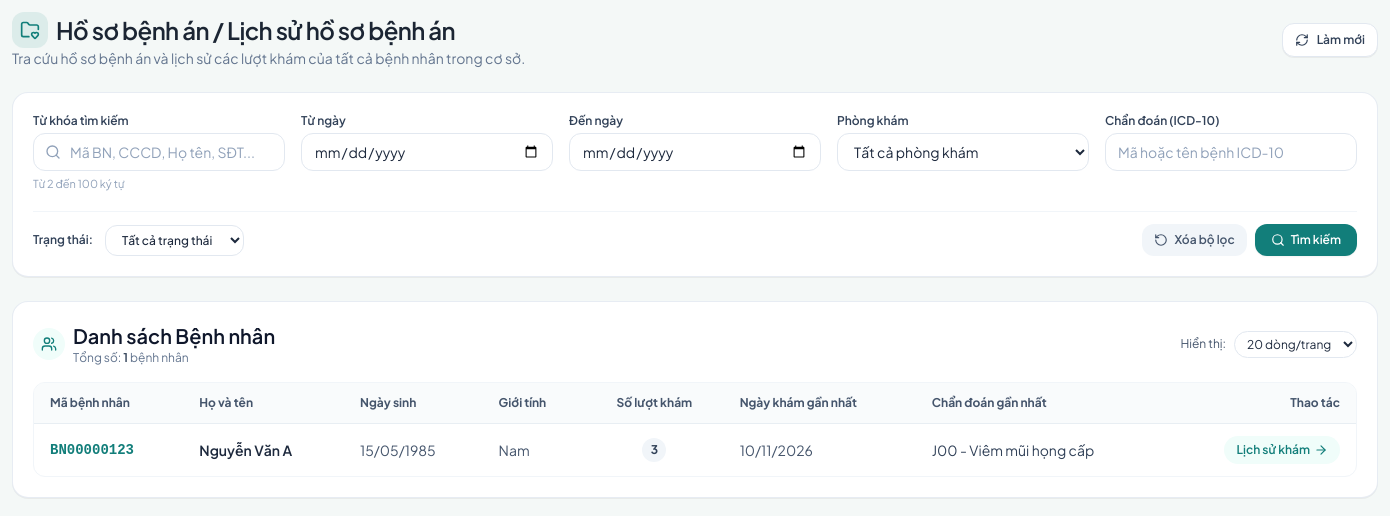
Test case: MedicalRecordsPage (UC-51) › opens level 2 for the selected patient with labels and visits without a record
Click the text "BN00000123".
click(109, 450)  # box [34,424,183,476]
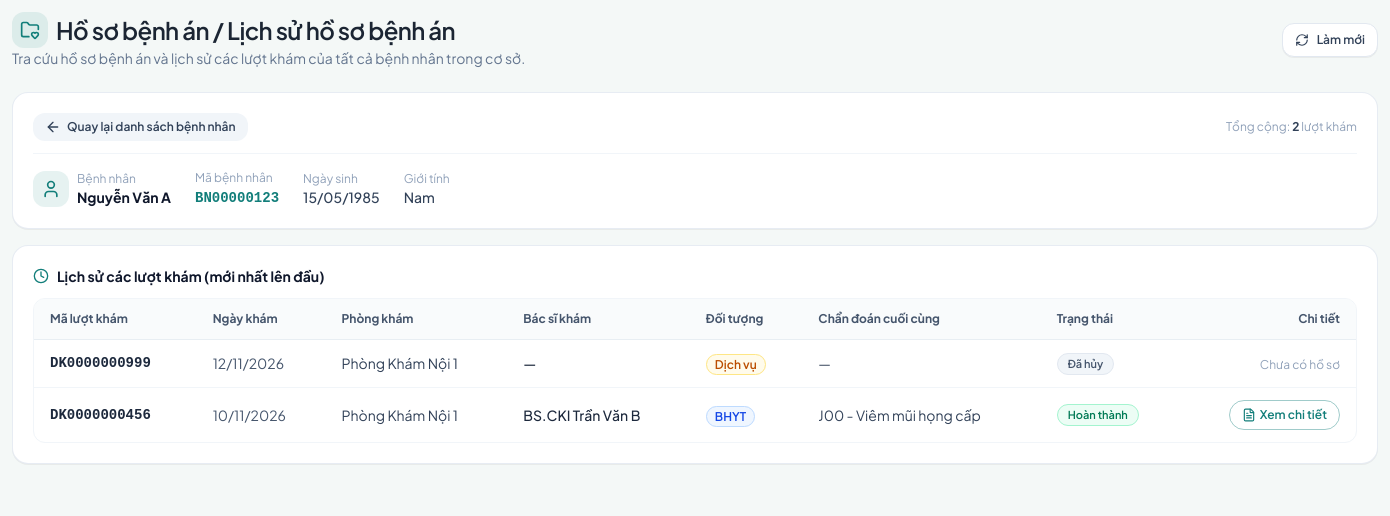
Expected: the text "DK0000000456" is shown, [34,387,197,442]
Expected: the text "Quay lại danh sách bệnh nhân" is shown, [67,119,236,135]
Expected: the text "Hoàn thành" is shown, [1057,404,1139,426]
